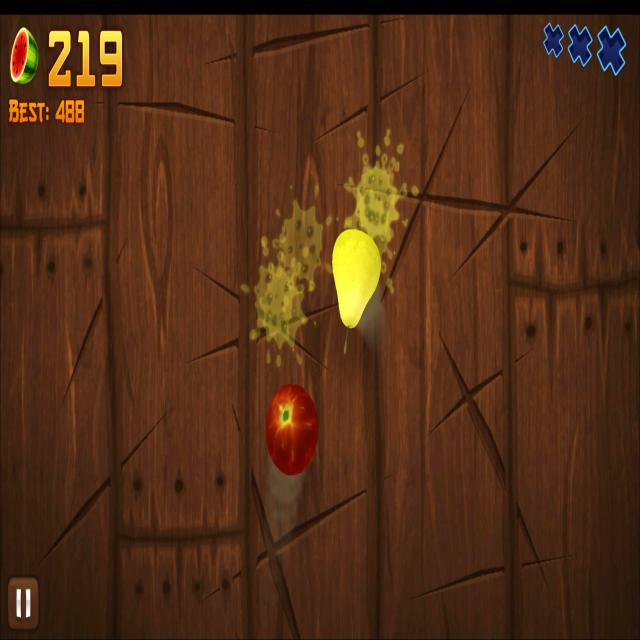fruit: (265, 381, 320, 477), (332, 229, 382, 328)
